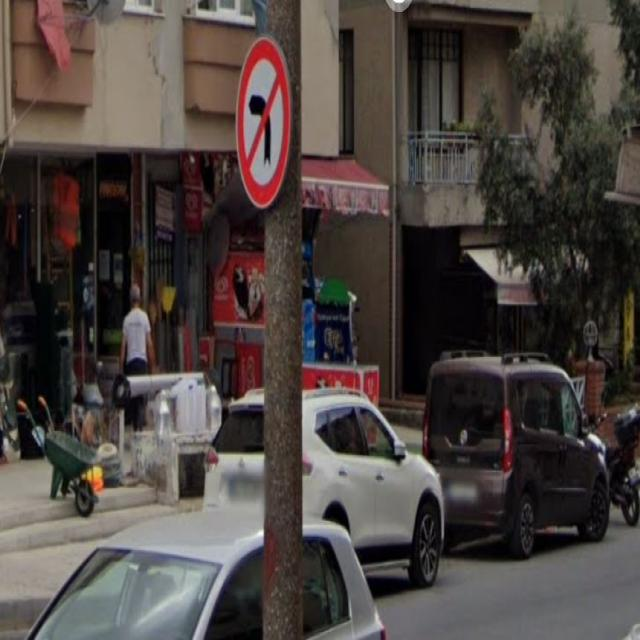soladonulmez: (235, 36, 290, 208)
